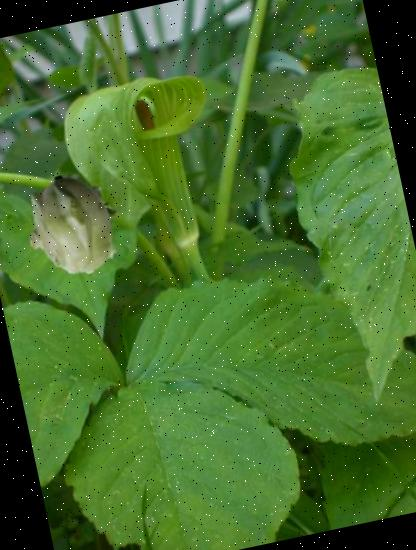Kohlrabi: (13, 165, 134, 286)
